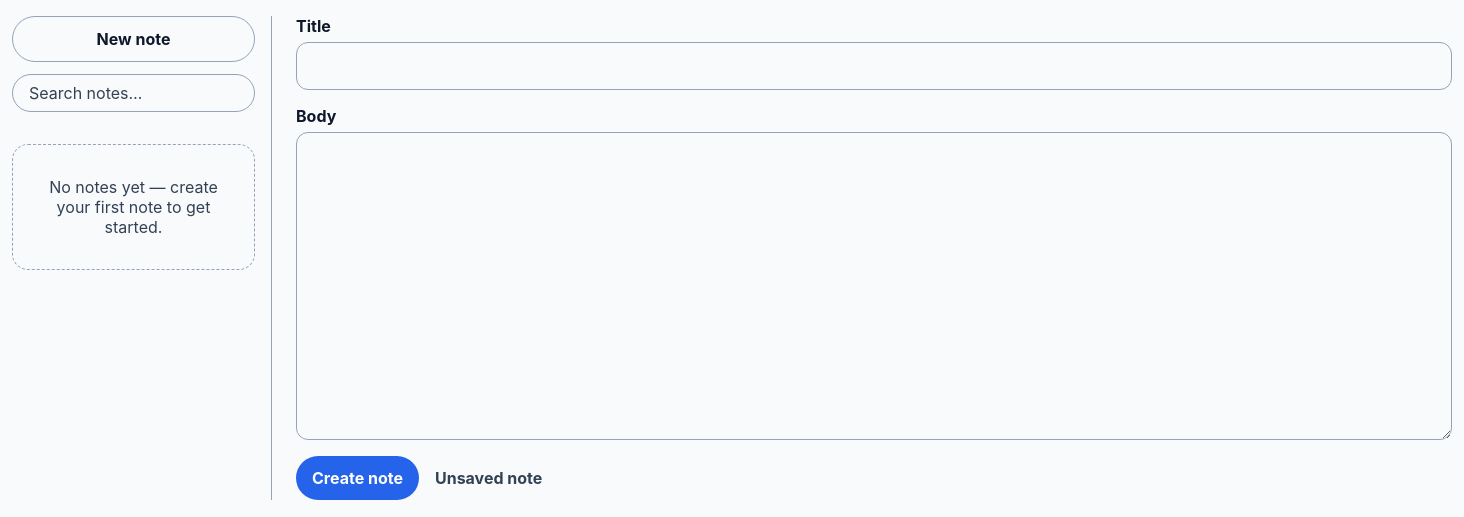
Test case: NoteEditor › note CRUD › shows network failures
Step 1. Type "Offline note" into the field labelled "Title" → (874, 66), box [296,42,1452,90]
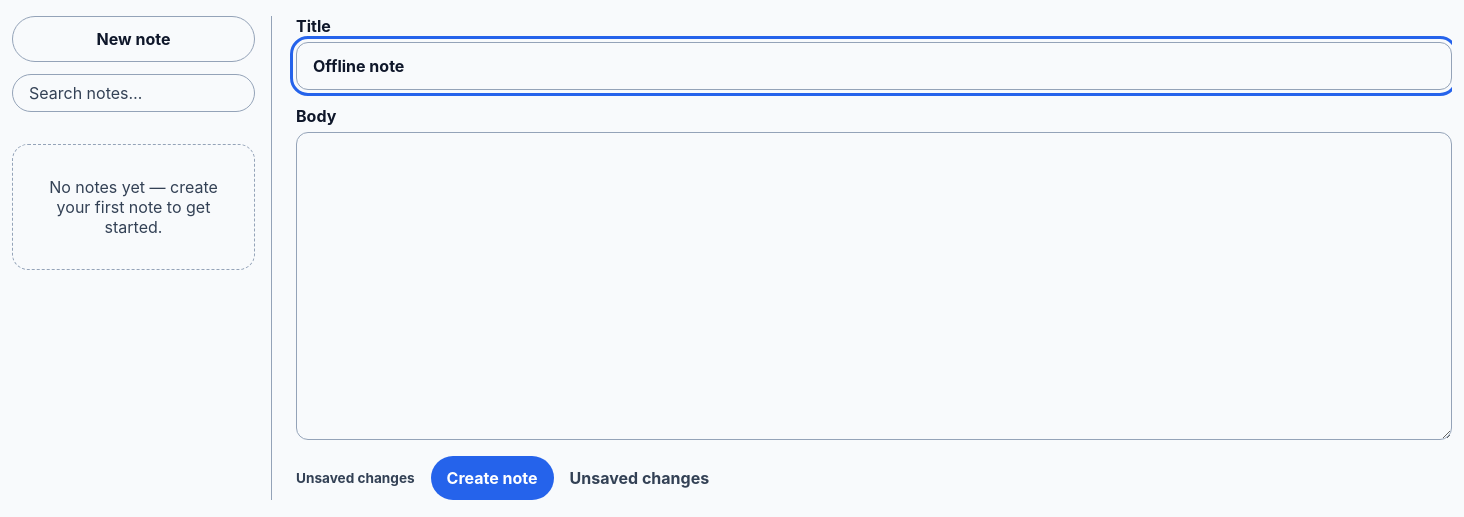
Step 2. Click the button "Create note" → click(492, 478), box [431,456,554,500]
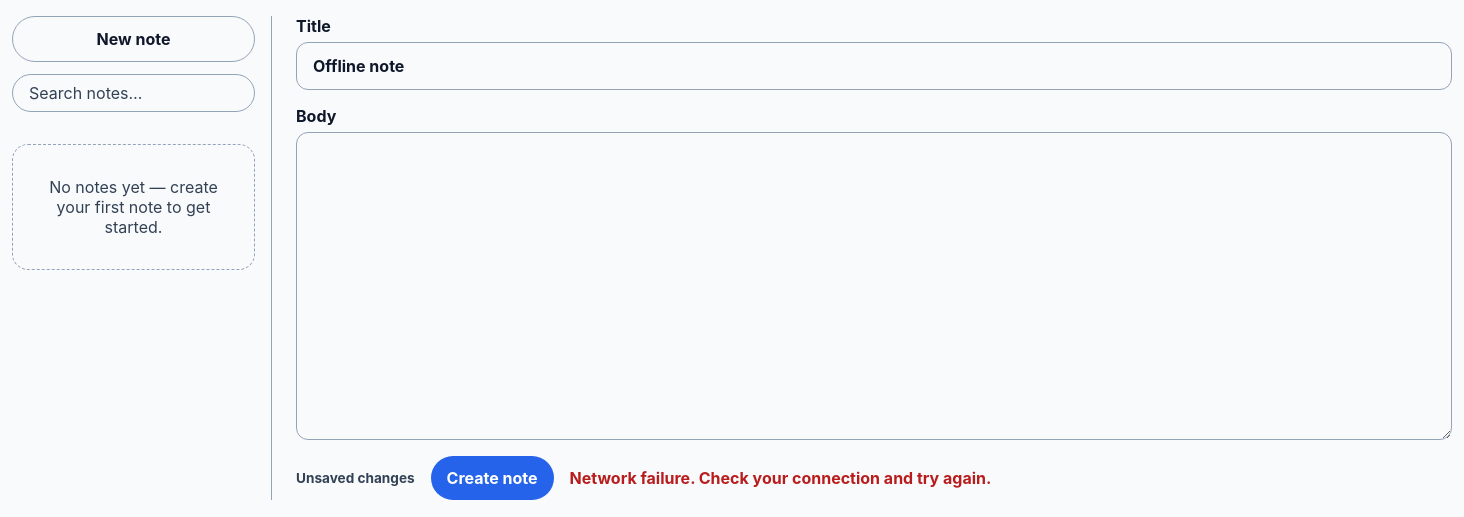
Result: the message shows "Network failure." at [570,468,991,488]
